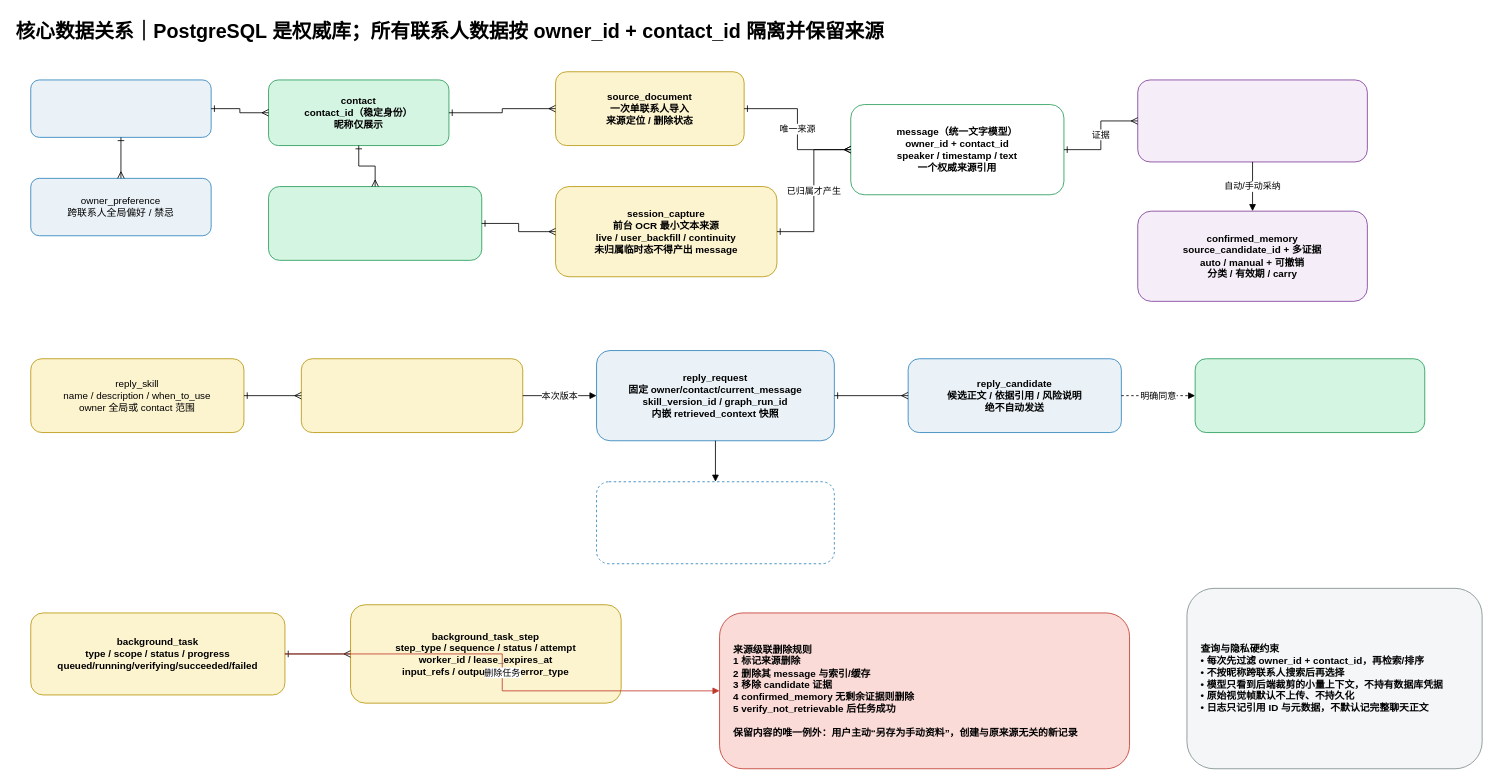
Some shapes in this 1497 by 783 pixel diagram are drawn without their labels. The shapes that lost their labels are listed below. From the top down, each one's centre as x and y in pixels, then its label:
(120,108): owner owner_id（第一层隔离键）
(1252,120): memory_candidate 模型/规则提取 + 证据范围 pending / confirmed / rejected / invalidated
(375,223): conversation_binding 用户确认的 App / 账号 / 会话绑定 绑定状态 / 最近验证时间
(412,395): reply_skill_version（不可变） 目标 / 步骤 / 禁忌 / 示例 v1 allowed_tools = 空
(1309,395): style_sample 仅用户明确同意保存 普通候选或选择动作不自动沉淀
(715,522): retrieved_context（内嵌） 检索条件 / 预算 / 引用列表 分数 / 入选原因 / 降级状态
